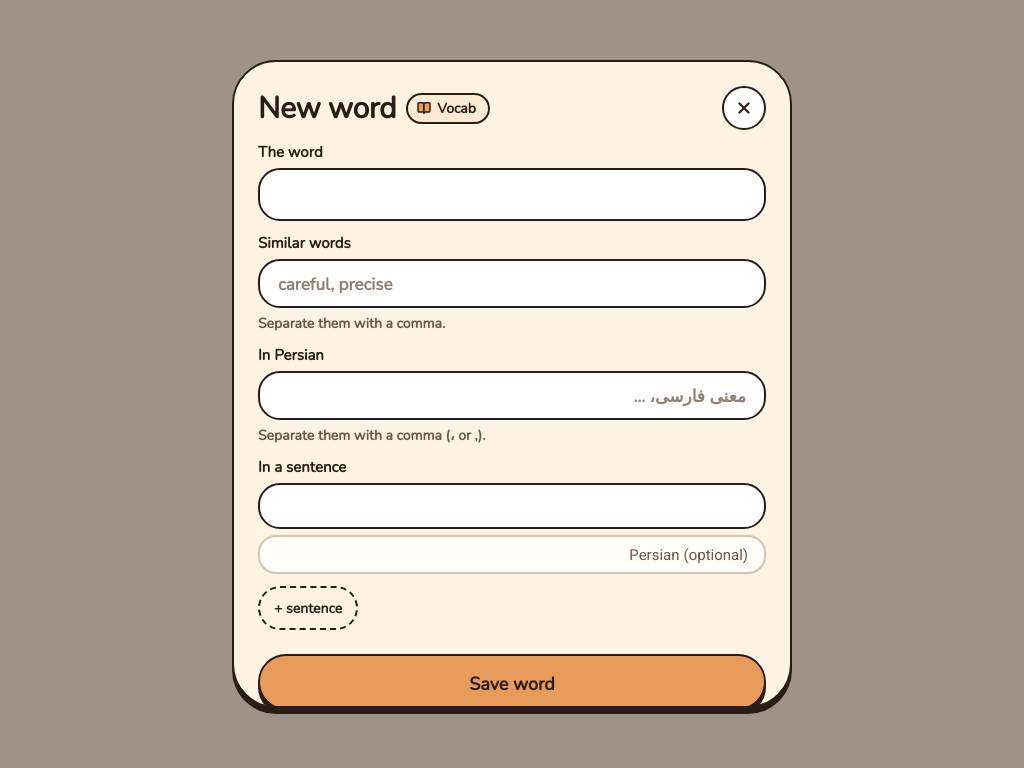
Test case: Add word › adds a sentence field right under the sentences, focuses it, and ignores it when left empty
Expected: the dialog is shown, [232,60,792,708]
Type "calm" into the field labelled "The word".
click(512, 194); type("calm")  # box [258,168,766,221]
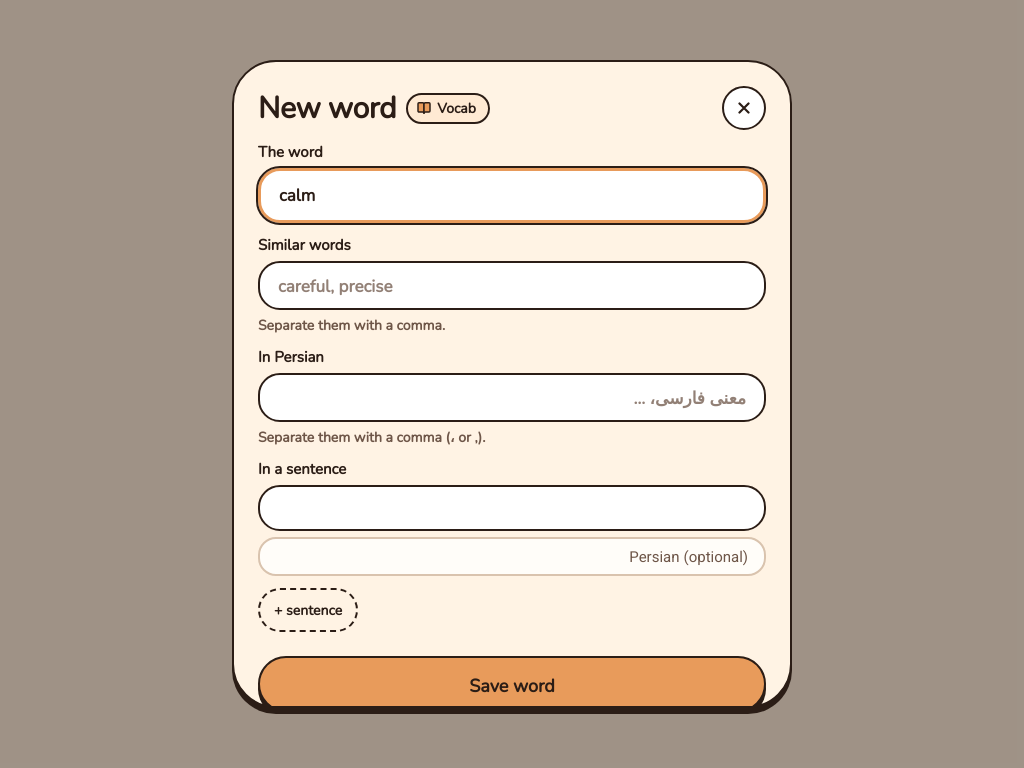
Type "calm" into the text box labelled "Similar words".
click(512, 286); type("calm")  # box [258,261,766,310]
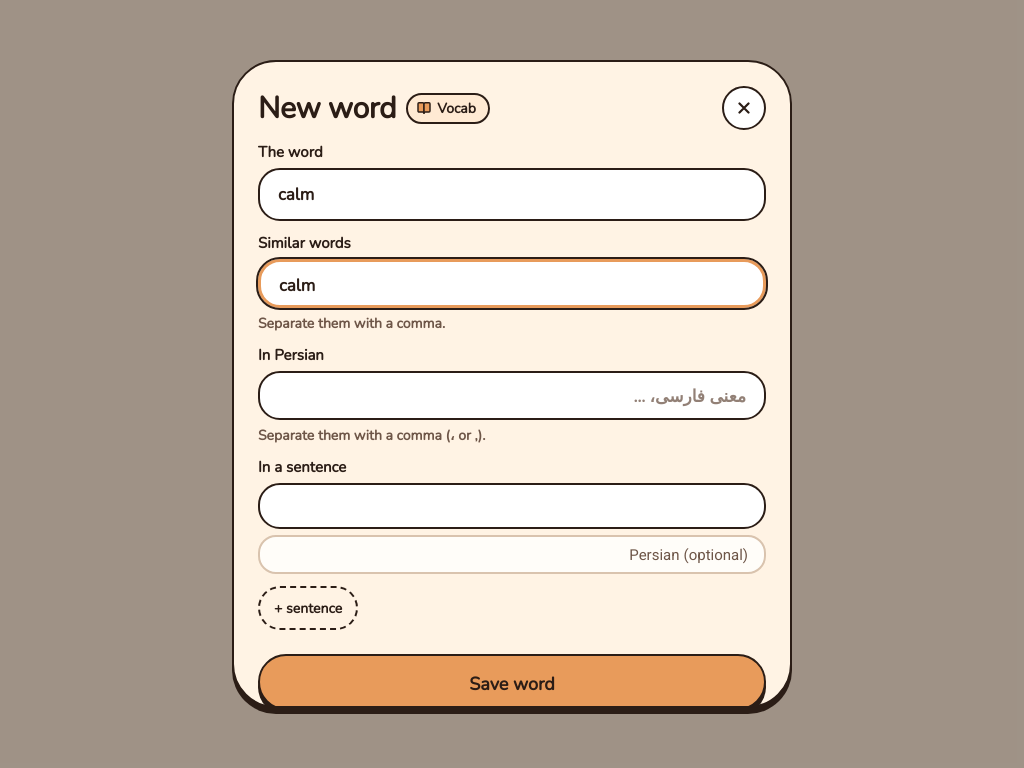
Type "آرام" into the text box labelled "In Persian".
click(512, 396); type("آرام")  # box [258,371,766,420]
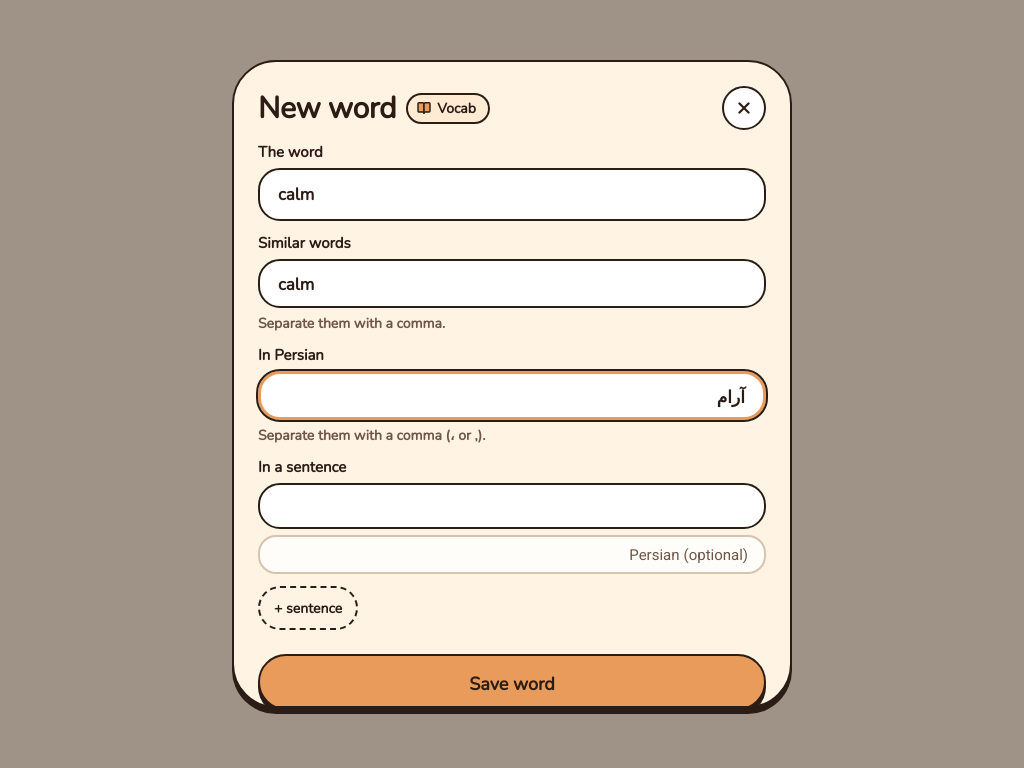
Type "Stay calm." into the text box named "Sentence 1".
click(512, 506); type("Stay calm.")  # box [258,483,766,529]
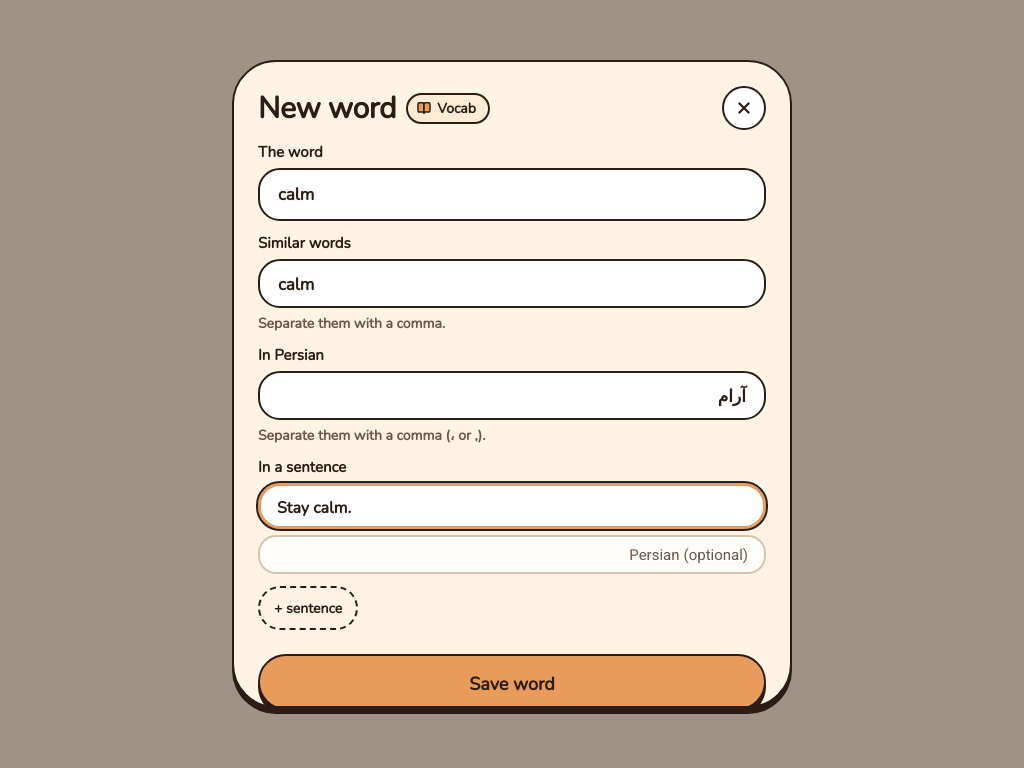
Click the button "+ sentence".
click(308, 608)  # box [258,586,358,630]
(page scrolled)
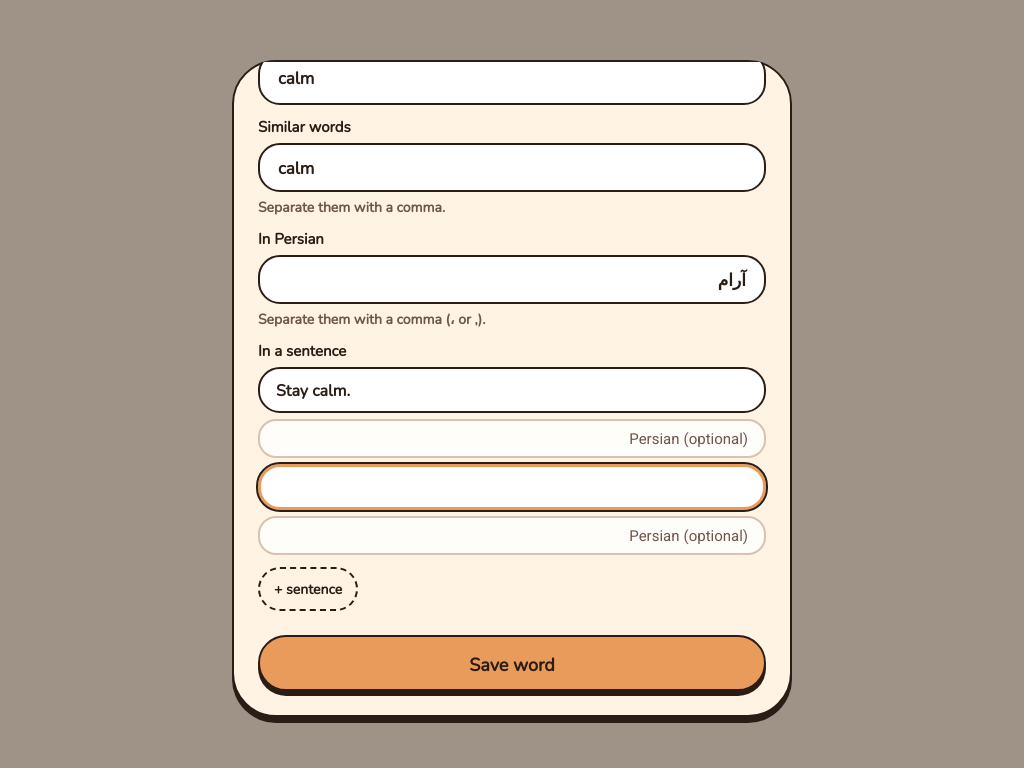
Click the button "Save word".
click(512, 663)  # box [258,635,766,691]
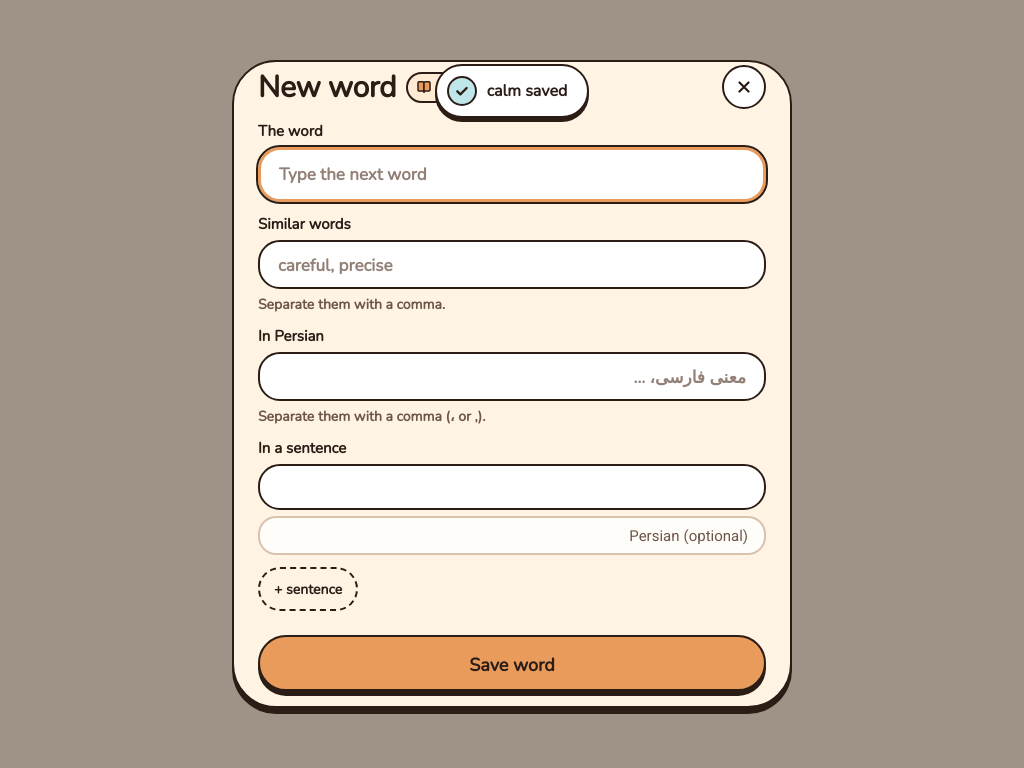
Result: the message reads "calm saved" at [435,64,589,118]
